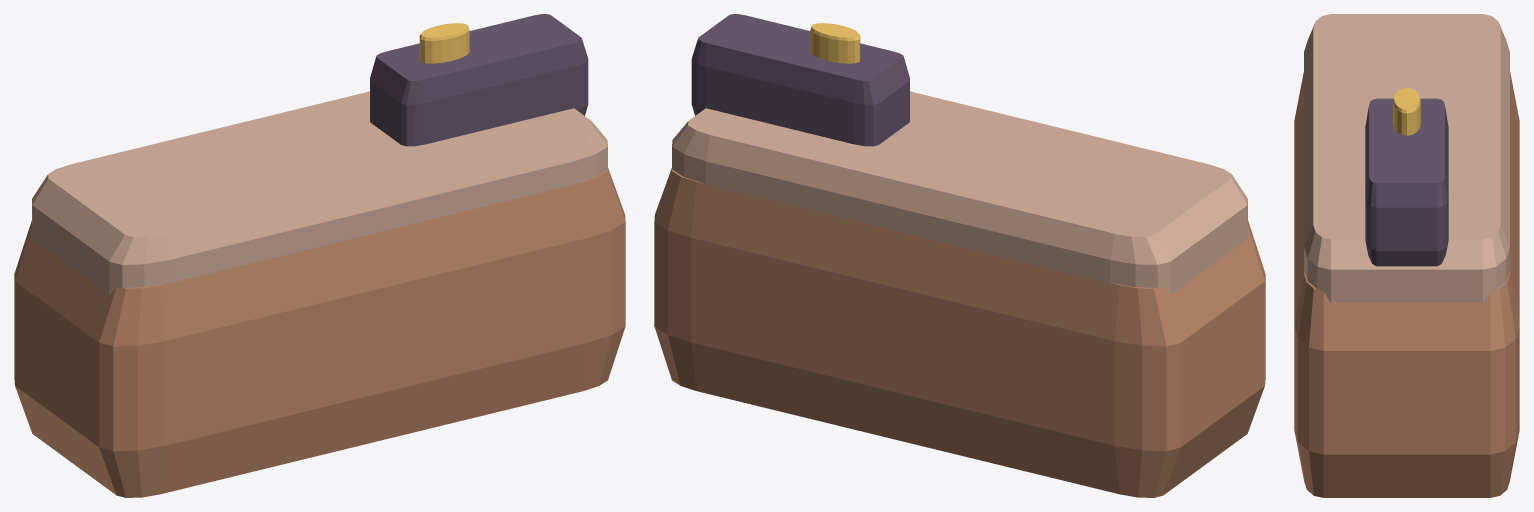
The model's file is lost_wallet.glb.
The picture shows the model from 3 angles, left to right: view 1: azimuth 30°, elevation 25°; view 2: azimuth 150°, elevation 25°; view 3: azimuth 270°, elevation 25°; orthographic projection.
Parts seen in each view (by area): view 1: model; view 2: model; view 3: model.
Part boxes in pixels (x1=…): model: x1=14, y1=14, x2=625, y2=497; model: x1=654, y1=14, x2=1265, y2=497; model: x1=1294, y1=14, x2=1519, y2=497.
Bounding box in the file's own units: 0.4 × 0.25 × 0.15.
